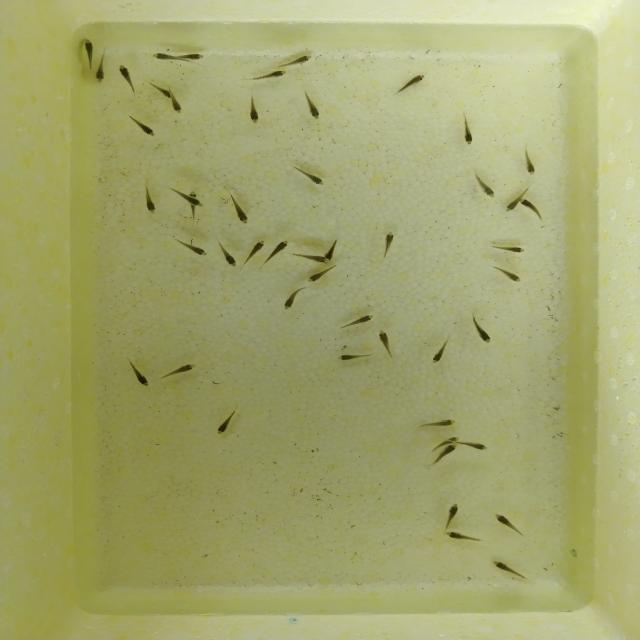fingerling: (490, 558, 531, 581), (392, 72, 432, 95), (427, 338, 455, 367), (373, 330, 404, 356), (468, 314, 492, 347), (212, 408, 239, 437), (162, 360, 201, 380), (299, 90, 323, 122), (169, 188, 207, 208), (127, 114, 158, 138), (116, 64, 139, 96), (229, 196, 252, 228), (280, 286, 306, 314), (293, 167, 327, 187), (341, 313, 383, 329), (126, 362, 152, 387), (417, 416, 460, 431), (243, 240, 266, 268), (242, 94, 262, 126), (268, 239, 291, 266), (520, 200, 548, 222), (246, 70, 289, 84), (458, 118, 478, 148), (475, 176, 499, 201), (434, 443, 458, 468), (439, 502, 462, 528), (380, 228, 398, 260), (304, 266, 336, 284), (492, 267, 525, 284), (274, 54, 314, 68), (218, 242, 239, 268), (178, 240, 209, 257), (492, 512, 517, 532), (80, 38, 96, 68), (442, 530, 482, 542), (142, 186, 158, 215), (521, 155, 540, 179), (492, 242, 527, 255), (96, 50, 109, 83), (332, 352, 372, 362), (297, 255, 331, 265), (459, 440, 492, 450), (151, 84, 171, 100), (177, 52, 206, 62), (146, 51, 172, 62), (170, 98, 185, 115), (324, 239, 337, 257), (502, 199, 518, 213), (443, 435, 460, 442)
